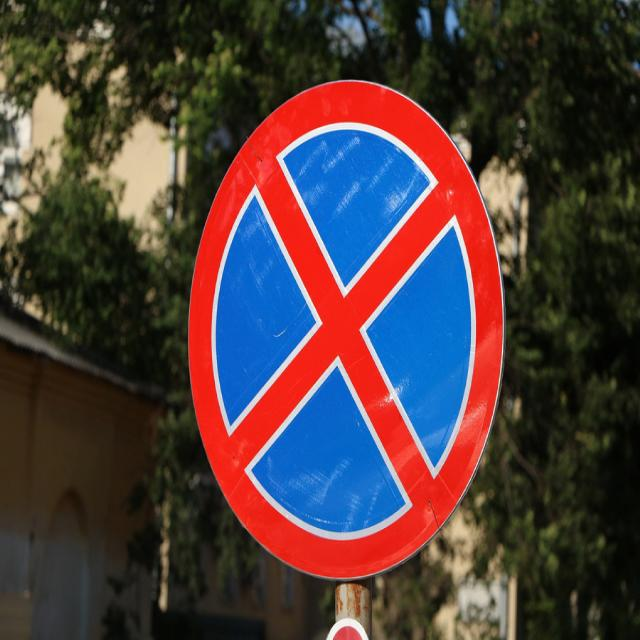no stopping: (185, 67, 509, 589)
